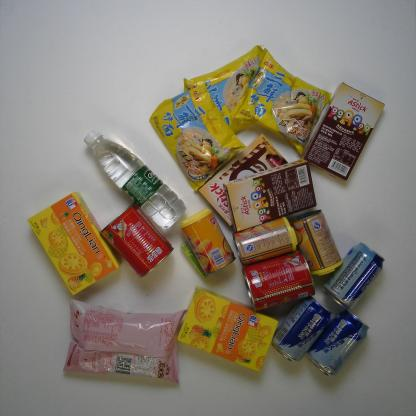Alcohol: (303, 308, 370, 377), (321, 242, 386, 312), (271, 295, 332, 363)
Canned Food: (99, 201, 174, 279), (242, 249, 316, 312), (179, 207, 236, 276), (289, 209, 344, 277), (232, 216, 300, 267)
Dessert: (27, 190, 124, 296), (177, 284, 280, 373), (300, 81, 386, 183), (198, 133, 289, 227), (223, 158, 318, 233)
Drink: (82, 128, 188, 230)
Gum: (179, 241, 210, 280)
Instant Noodles: (147, 81, 247, 193), (232, 46, 333, 156), (182, 44, 266, 134)
Puffed Food: (61, 297, 188, 387)
